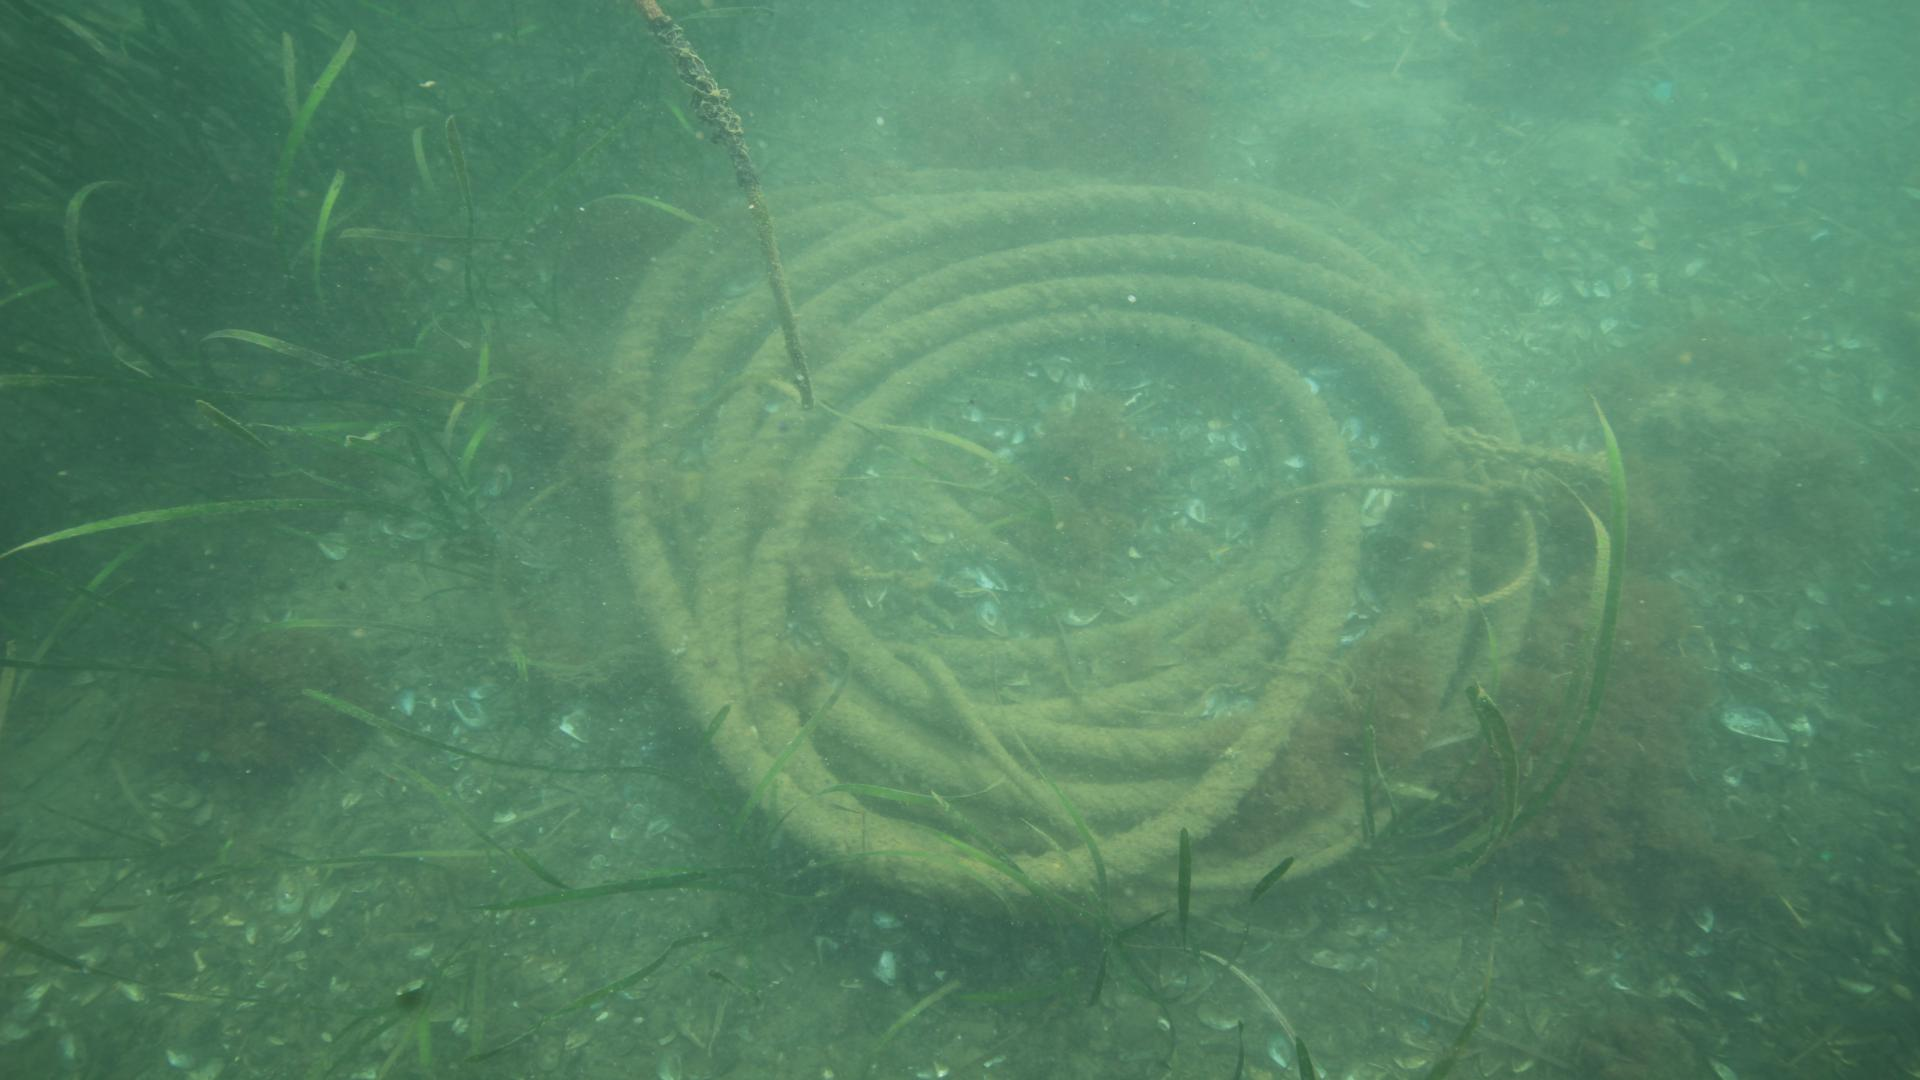bundle of ropes: (605, 164, 1542, 928)
